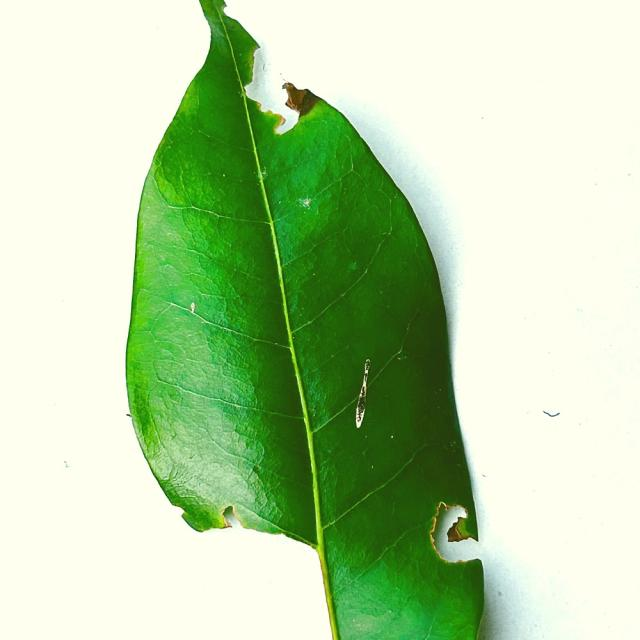Deficiency Leaf: (168, 524, 327, 639), (244, 44, 320, 129), (428, 504, 483, 564)
Lychee: (124, 0, 486, 639)
